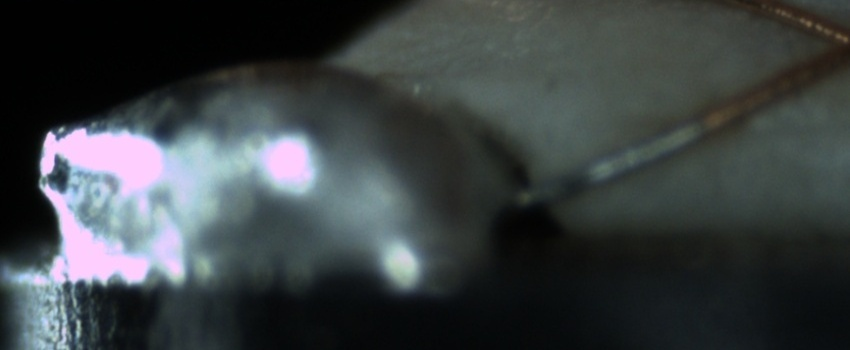CL: (799, 7, 850, 82)
TS: (519, 120, 708, 208)
